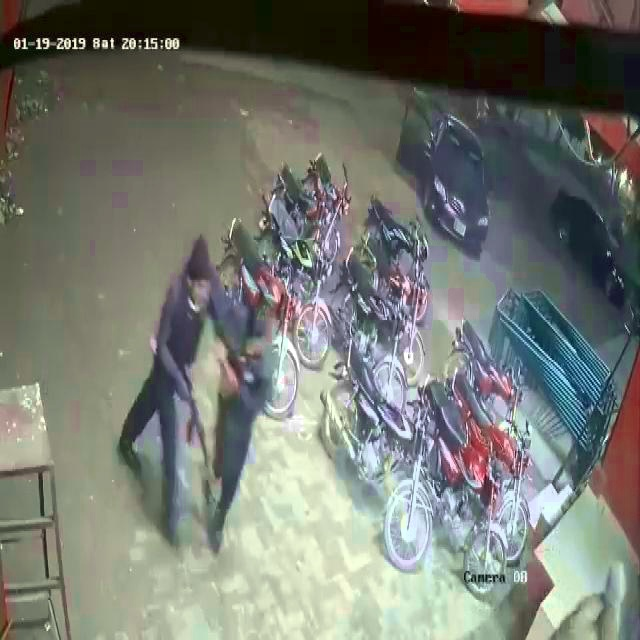gun: (177, 349, 211, 473)
